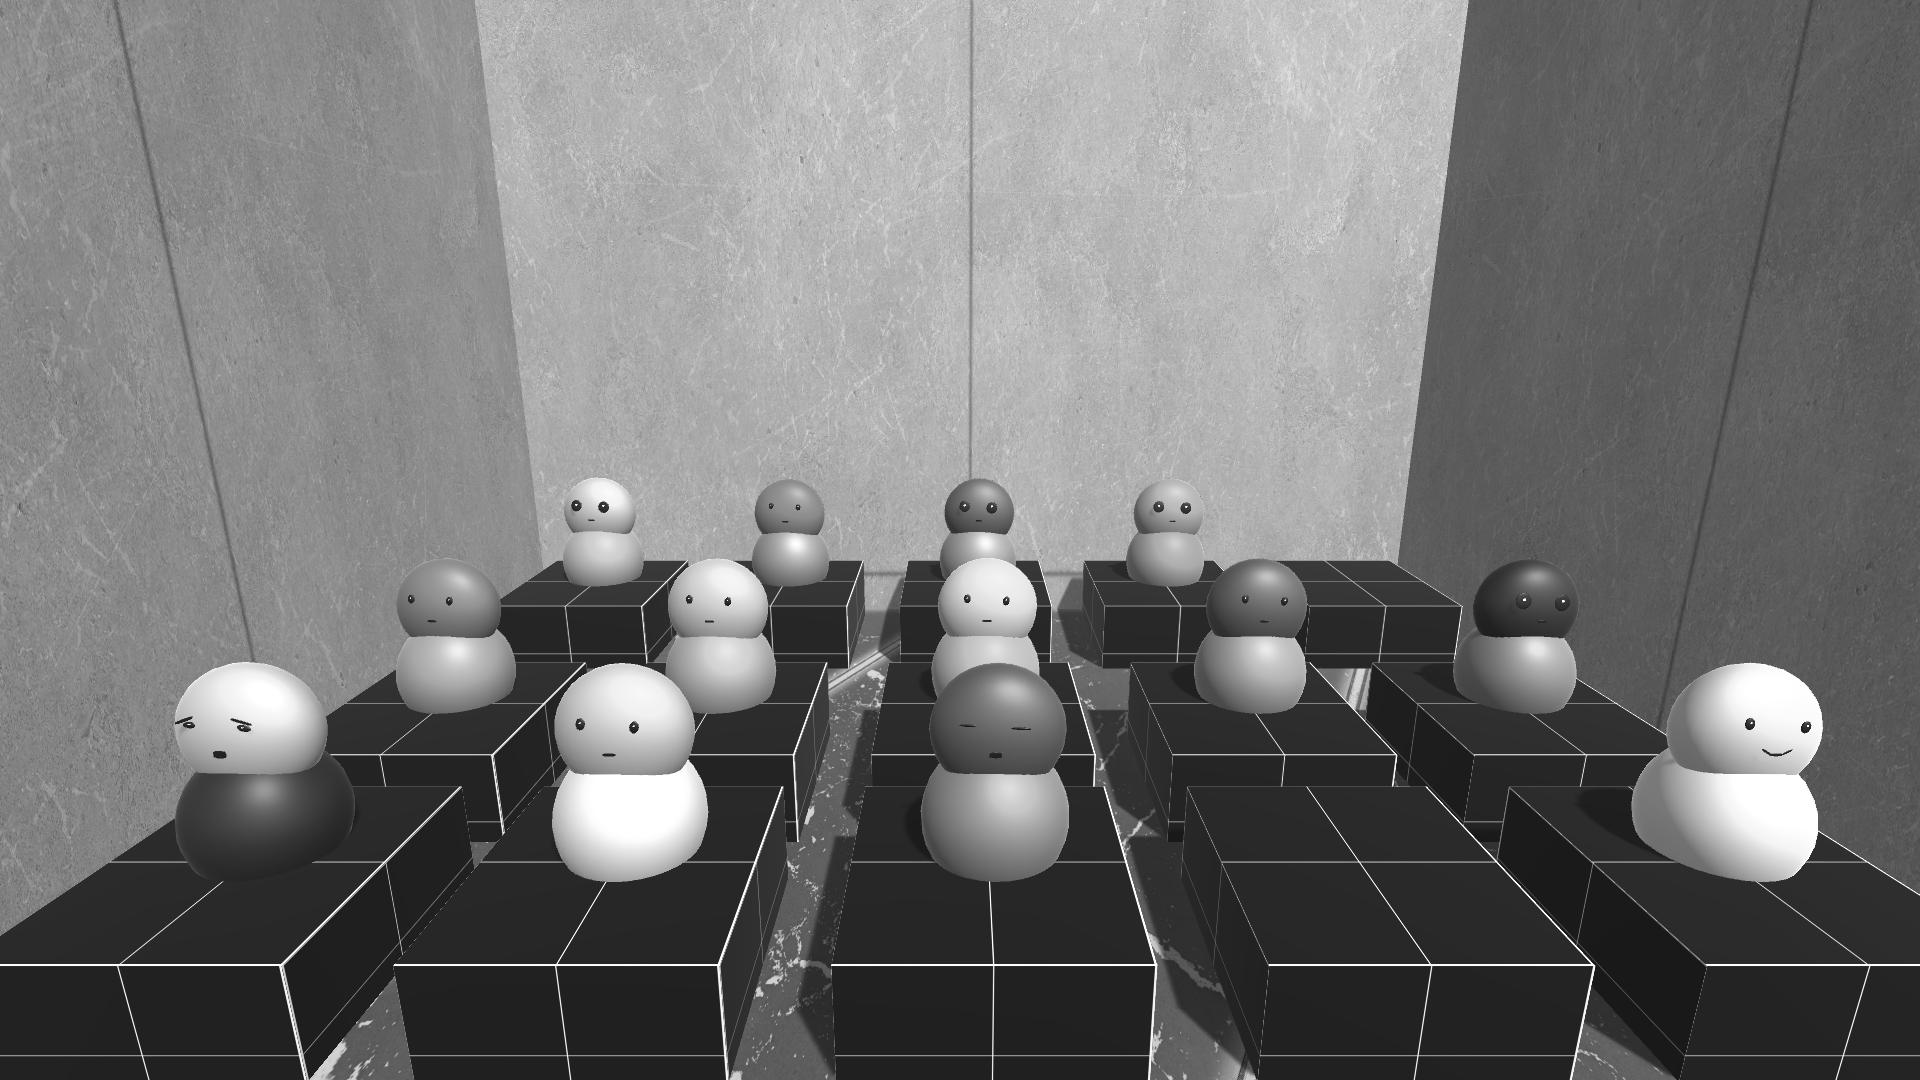blob_atento: (1473, 559, 1586, 640), (942, 473, 1019, 538), (1131, 479, 1212, 541), (560, 469, 641, 530)
blob_dormindo: (924, 659, 1098, 803)
blob_entediado: (170, 658, 324, 774)
blob_feliz: (1658, 655, 1845, 774)
blob_normal: (553, 655, 699, 779), (931, 558, 1052, 646), (384, 559, 512, 640), (662, 560, 770, 644), (1203, 559, 1308, 642), (745, 479, 825, 539)
